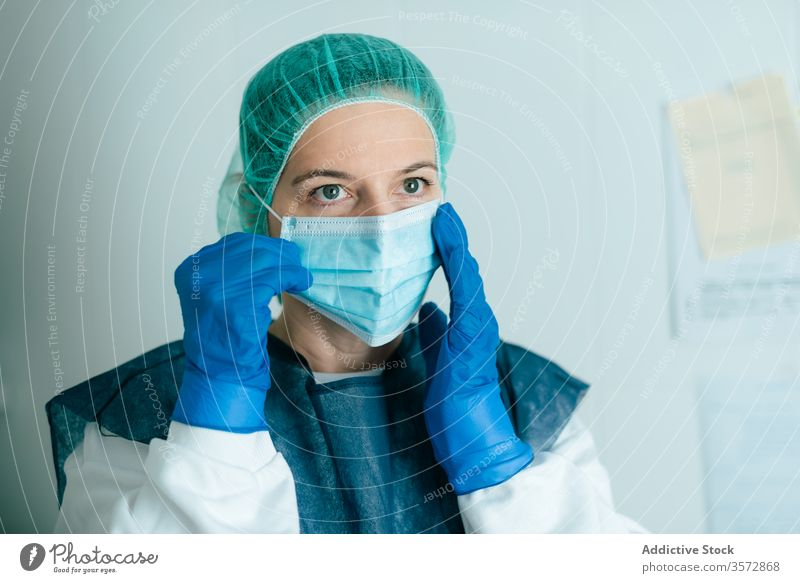Gloves: (418, 208, 547, 481), (175, 234, 287, 424)
with_mask: (285, 162, 440, 341)
